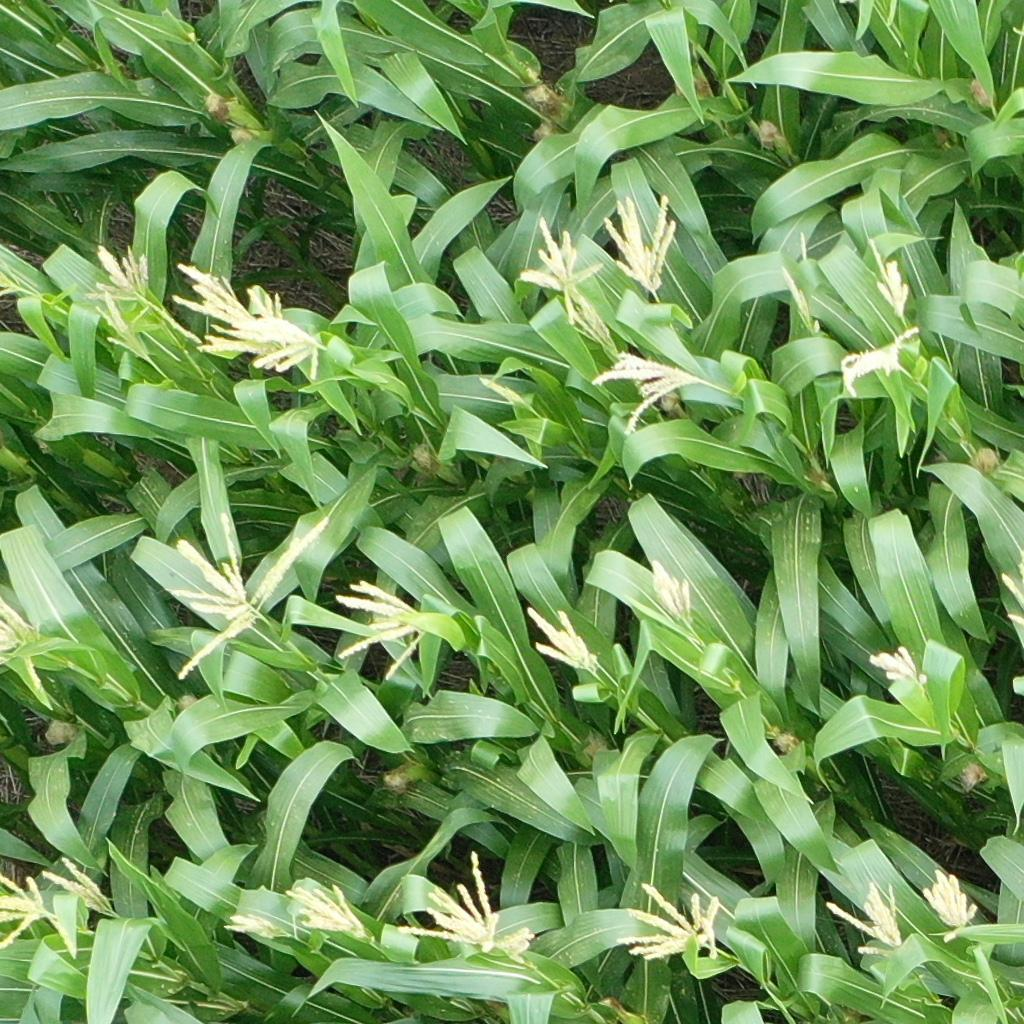Tassel: (167, 510, 332, 681), (398, 851, 536, 963), (85, 243, 199, 343), (173, 260, 286, 356), (333, 573, 430, 680), (616, 876, 726, 969), (522, 216, 605, 328), (593, 351, 701, 437), (603, 193, 681, 291), (1, 595, 59, 703), (233, 315, 331, 378), (826, 880, 906, 957), (840, 327, 922, 395), (527, 602, 600, 677), (918, 866, 980, 944), (285, 882, 368, 938), (43, 856, 114, 913), (94, 290, 149, 359), (1, 870, 45, 952), (870, 237, 912, 315), (865, 643, 932, 690), (780, 264, 825, 332), (649, 561, 695, 624), (572, 292, 613, 350), (999, 547, 1024, 627), (224, 908, 284, 941), (480, 375, 526, 405), (1, 258, 24, 299)
